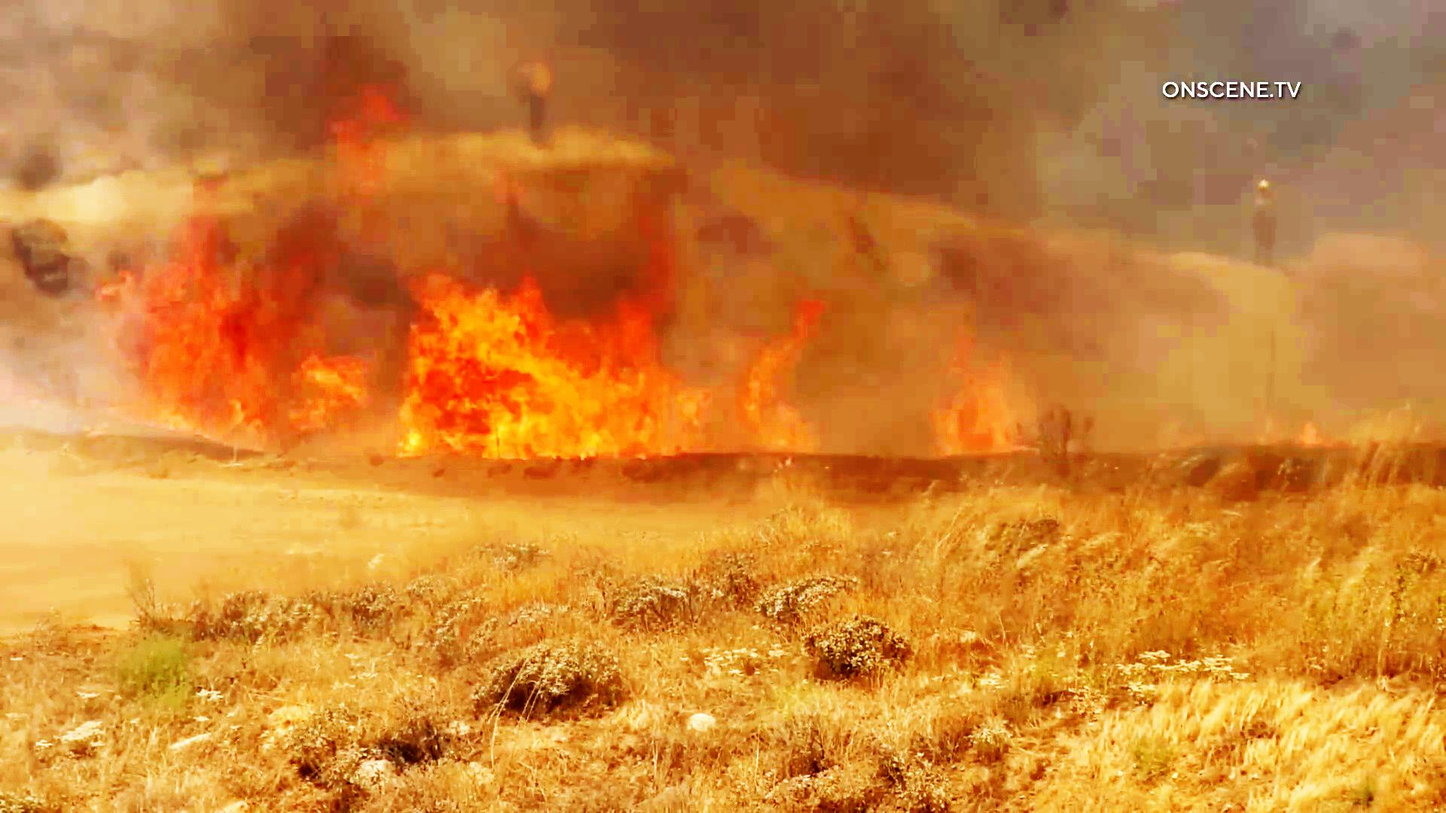fire: (396, 234, 730, 458), (79, 189, 332, 446), (748, 292, 1001, 440)
